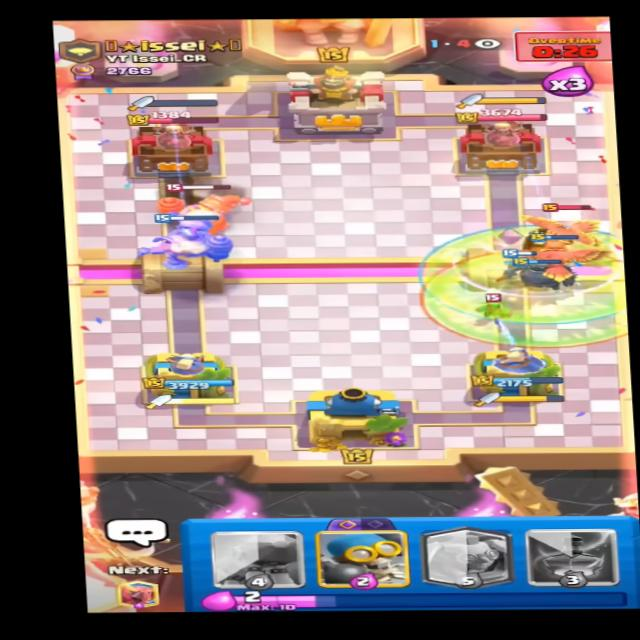goblin: (466, 287, 514, 319)
goblin-curse: (404, 249, 640, 348)
goblin-machine: (146, 177, 249, 231)
phoenix: (528, 200, 623, 253)
